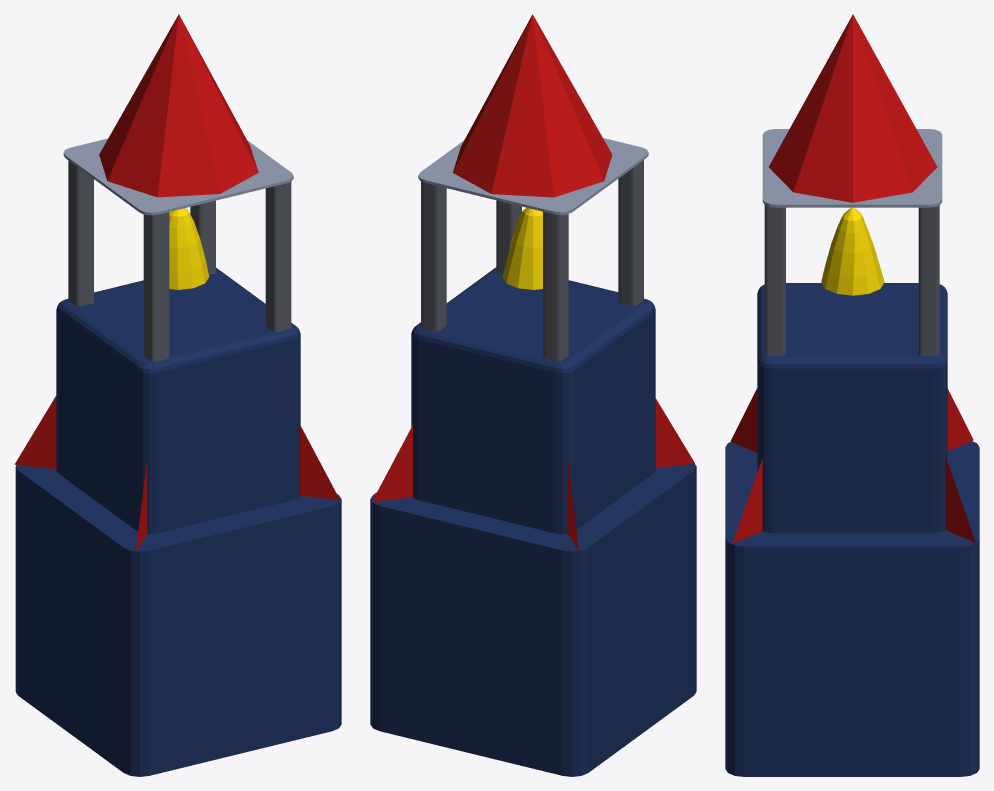
The picture shows the model from 3 angles, left to right: view 1: azimuth 30°, elevation 25°; view 2: azimuth 150°, elevation 25°; view 3: azimuth 270°, elevation 25°; orthographic projection. The views are drawn at different scales.
Visible parts, largest first — view 1: 鐘塔, 鐘; view 2: 鐘塔, 鐘; view 3: 鐘塔, 鐘.
Boxes of the visible parts, x1=… form: 鐘塔: x1=14, y1=14, x2=341, y2=776; 鐘: x1=169, y1=208, x2=209, y2=289; 鐘塔: x1=370, y1=14, x2=696, y2=776; 鐘: x1=502, y1=208, x2=542, y2=289; 鐘塔: x1=725, y1=14, x2=979, y2=776; 鐘: x1=821, y1=207, x2=884, y2=295.
Bounding box in the file's own units: 600 × 600 × 1848.
Materials: 8 (8 with a texture image).
